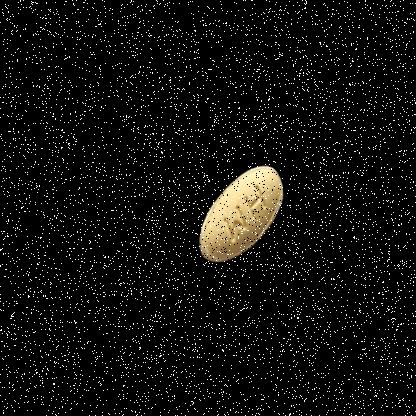tovast10: (177, 140, 300, 283)
